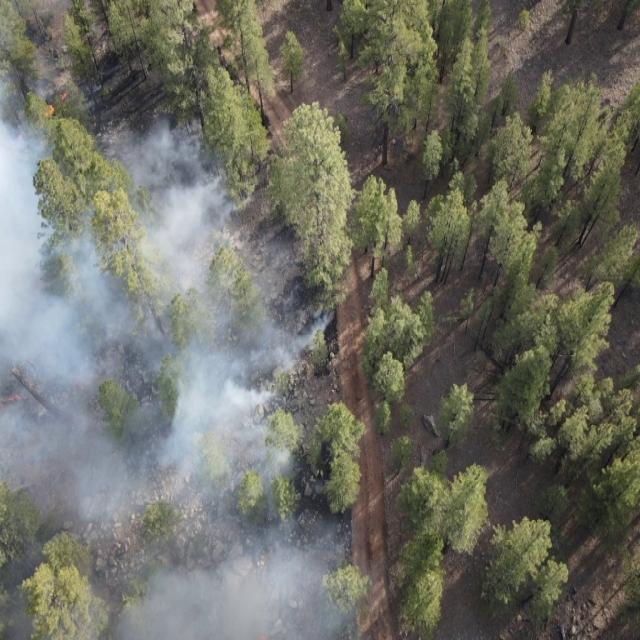fire: (6, 81, 84, 148), (0, 379, 30, 413)
smoke: (0, 107, 359, 640), (0, 0, 102, 106)
